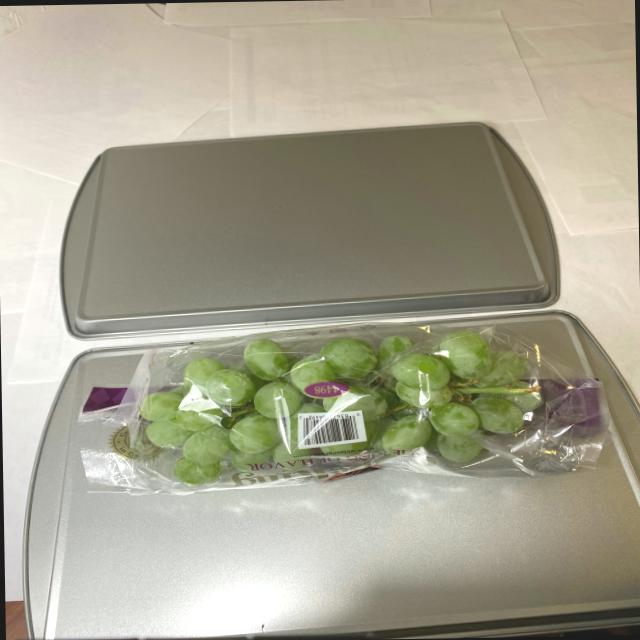grapes: (94, 327, 560, 482)
